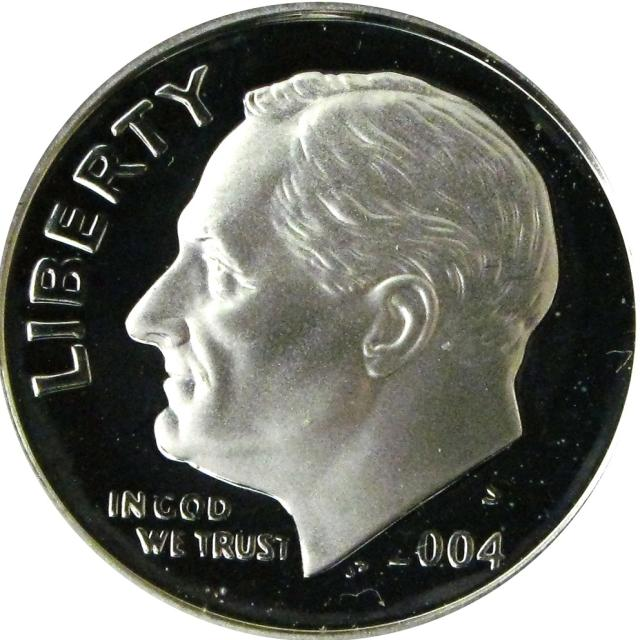Coin: (0, 1, 636, 639)
